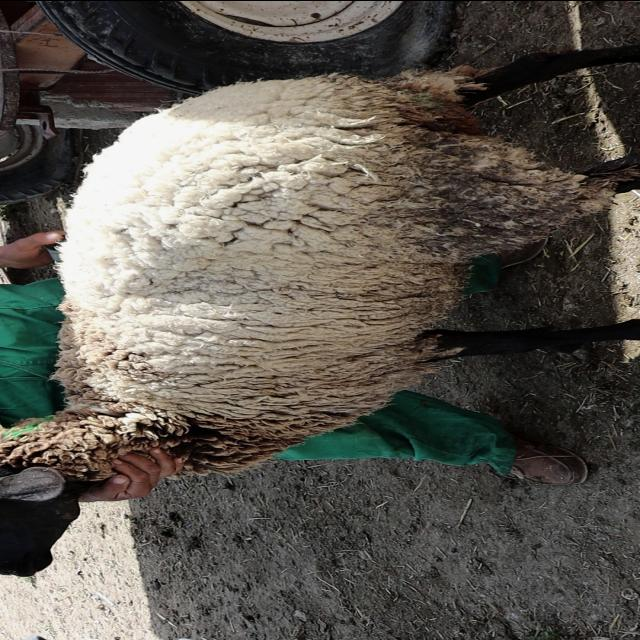Score_5: (0, 45, 639, 576)
